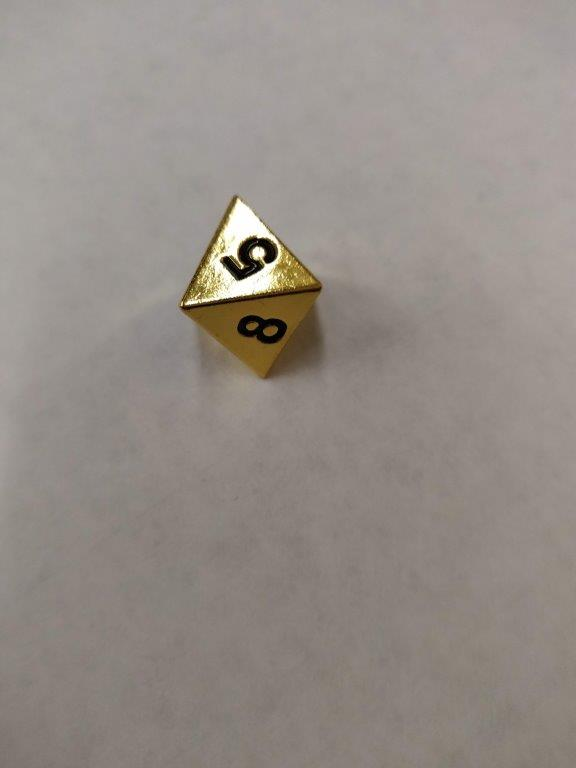d8-5: (175, 195, 324, 379)
